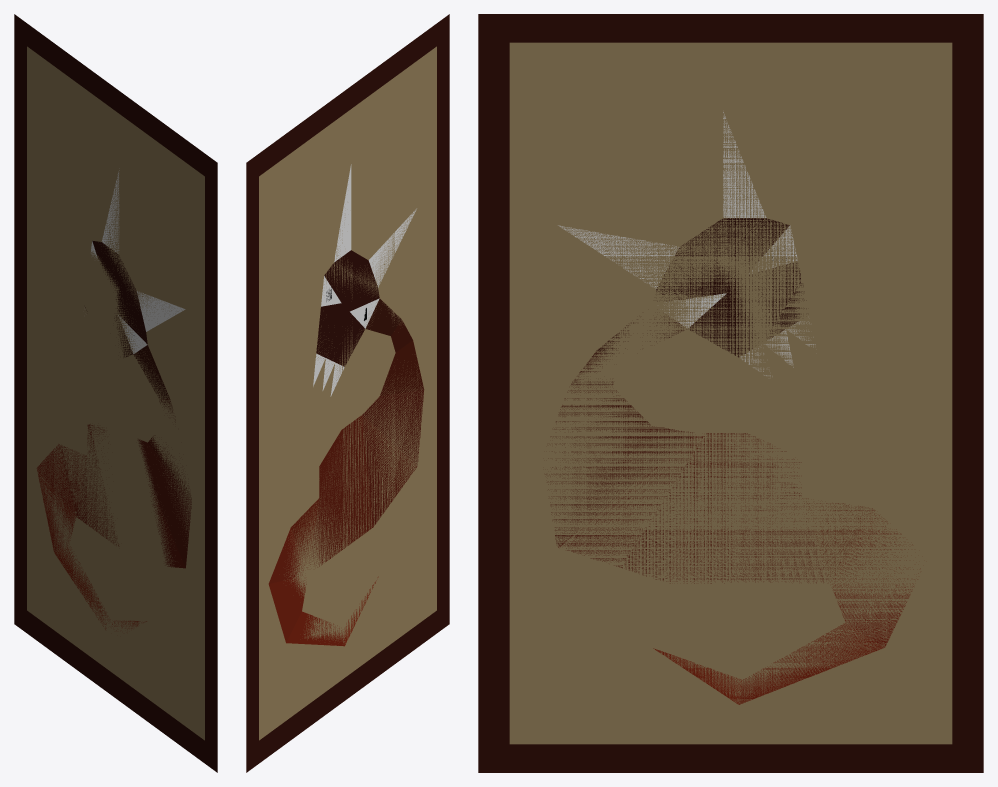
The model's file is obj_spooky_picture_0.obj.
3 views of the same model, side by side, from view 1: azimuth 30°, elevation 25°; view 2: azimuth 150°, elevation 25°; view 3: azimuth 270°, elevation 25° (orthographic). The views are drawn at different scales.
Bounding box in the file's own units: 0 × 1.66 × 1.
